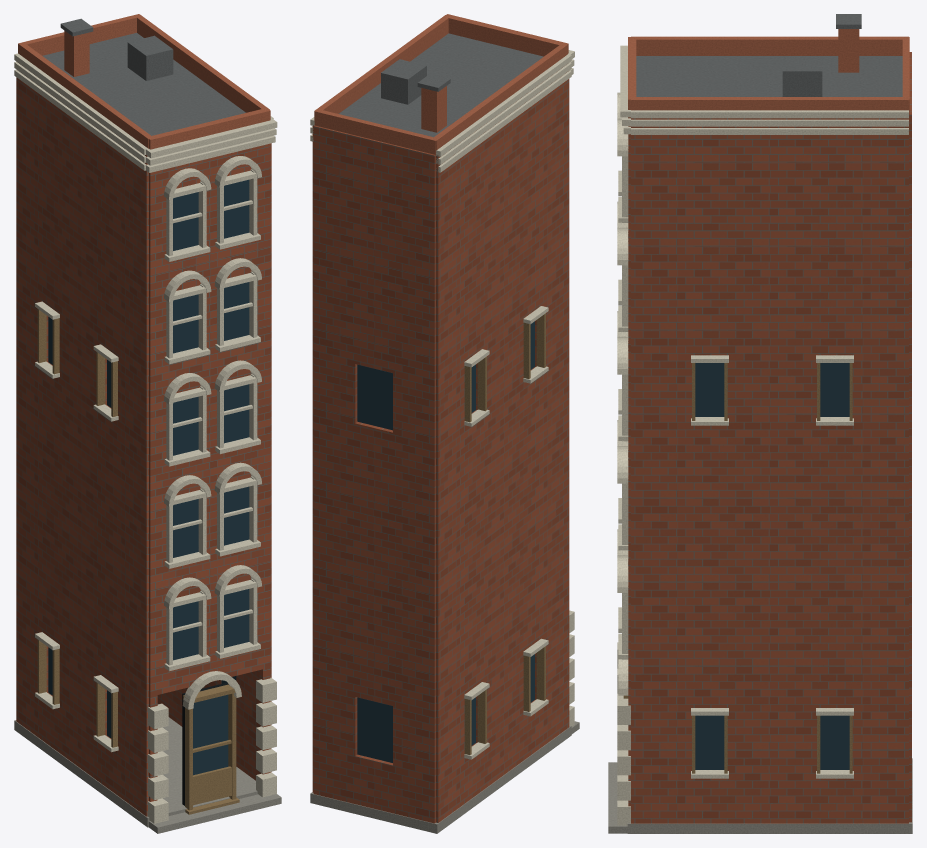
The model's file is OFFC2_lod2.glb.
The picture shows the model from 3 angles, left to right: view 1: azimuth 30°, elevation 25°; view 2: azimuth 150°, elevation 25°; view 3: azimuth 270°, elevation 25°; orthographic projection. The views are drawn at different scales.
Visible parts, largest first — view 1: OFFC2_LOD2; view 2: OFFC2_LOD2; view 3: OFFC2_LOD2.
Boxes of the visible parts, x1,y1,x2,y2 form: OFFC2_LOD2: (14, 14, 281, 833); OFFC2_LOD2: (310, 14, 579, 833); OFFC2_LOD2: (608, 14, 912, 833).
Bounding box in the file's own units: 3.71 × 18.25 × 6.57.
Materials: 8 (6 with a texture image).
